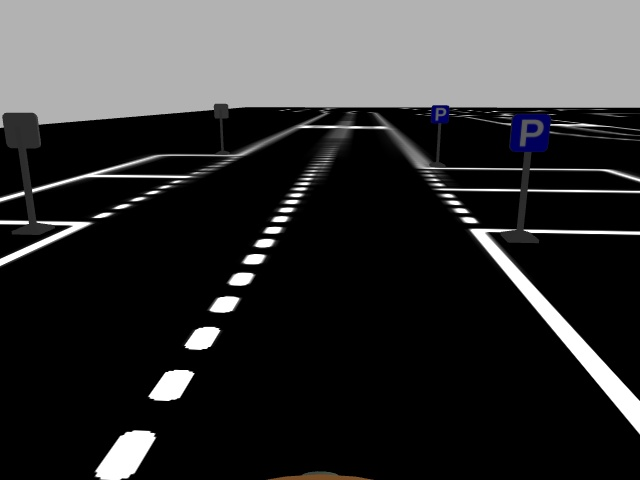parking: (510, 112, 550, 151), (431, 103, 449, 123)
